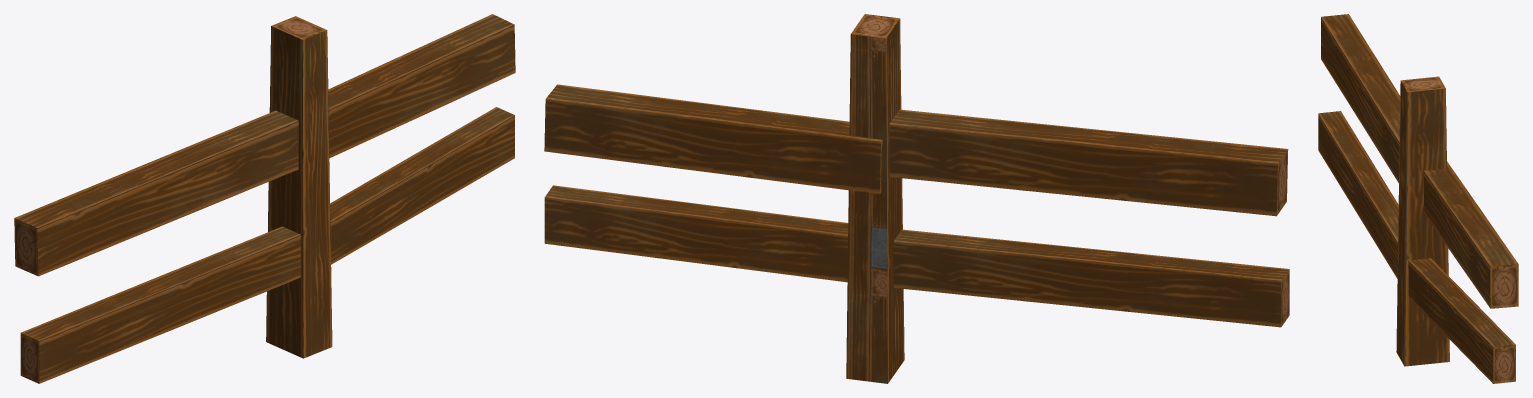
3 renders of one model, left to right at view 1: azimuth 30°, elevation 25°; view 2: azimuth 150°, elevation 25°; view 3: azimuth 270°, elevation 25°, orthographic. The views are drawn at different scales.
Visible parts, largest first — view 1: Cube.1317; view 2: Cube.1317; view 3: Cube.1317.
Boxes of the visible parts, x1,y1,x2,y2 form: Cube.1317: [14, 14, 515, 383]; Cube.1317: [544, 14, 1289, 383]; Cube.1317: [1318, 14, 1518, 383].
Bounding box in the file's own units: 275 × 142 × 94.64.
1 material, 1 textured.
